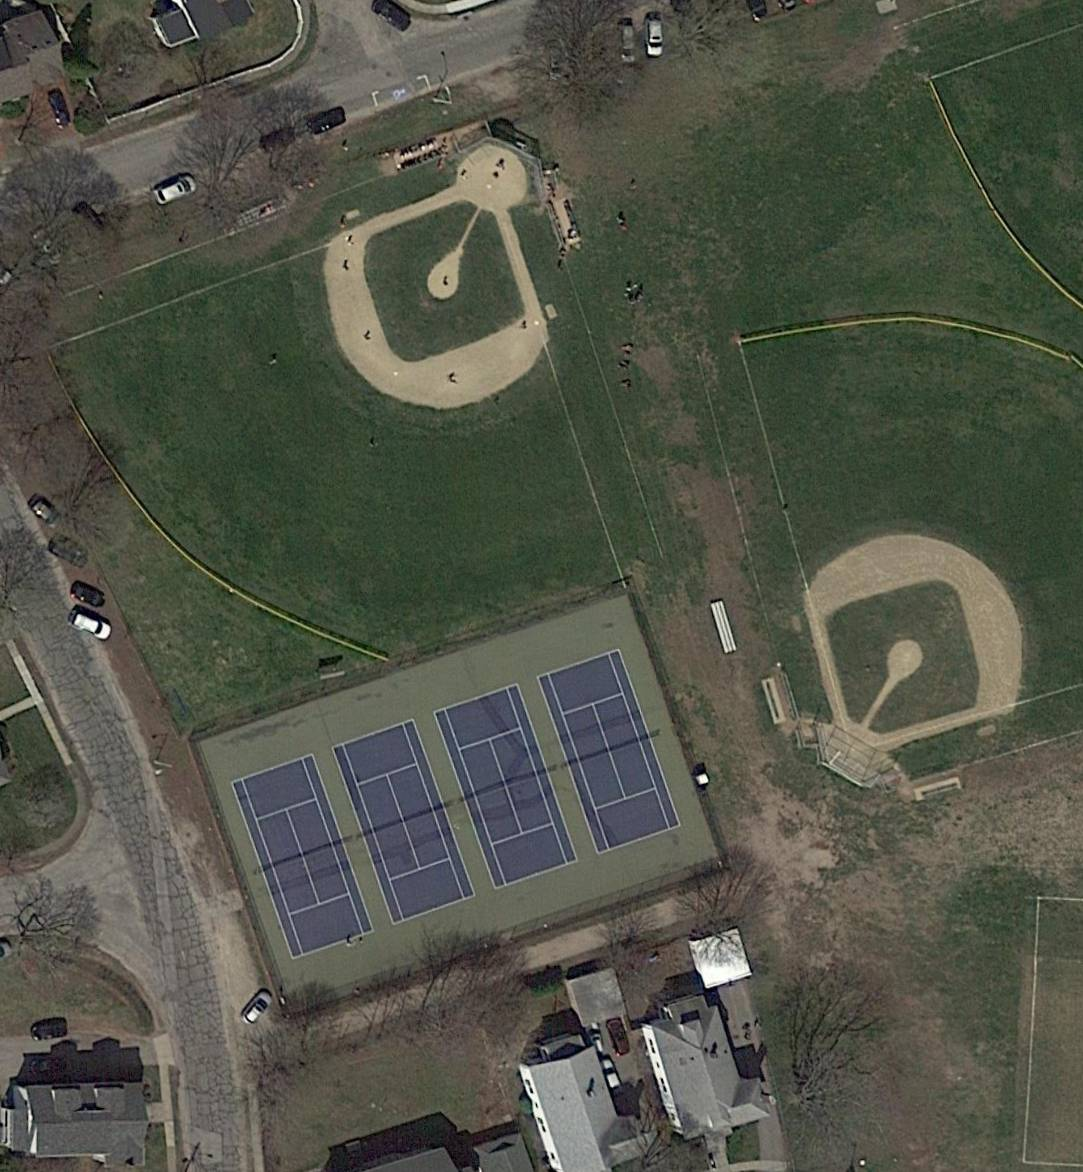baseball diamond: (309, 187, 556, 430), (798, 512, 1039, 755)
small vehicle: (148, 172, 200, 209), (63, 608, 113, 644), (47, 533, 92, 572), (370, 0, 417, 35), (239, 988, 277, 1028), (256, 125, 299, 155), (29, 496, 65, 531), (46, 88, 75, 132), (305, 106, 346, 137), (69, 579, 108, 611), (604, 1016, 633, 1057), (545, 40, 569, 80), (616, 25, 638, 65), (583, 1019, 606, 1055), (644, 16, 663, 59), (599, 1058, 623, 1092), (29, 1023, 70, 1041)
tennis court: (432, 682, 580, 892), (330, 718, 478, 926), (535, 649, 683, 854), (231, 753, 375, 961)
